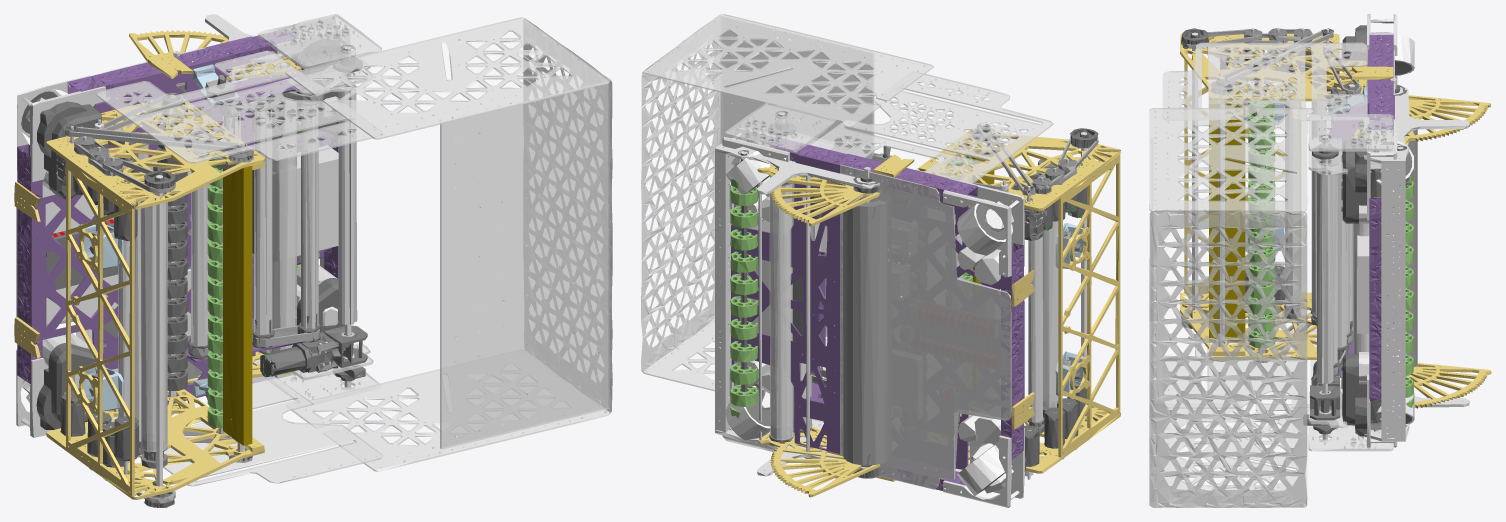
The picture shows the model from 3 angles, left to right: view 1: azimuth 30°, elevation 25°; view 2: azimuth 150°, elevation 25°; view 3: azimuth 270°, elevation 25°; orthographic projection. The views are drawn at different scales.
Parts seen in each view (by area): view 1: main_mesh, c3_mesh, c1_mesh, c0_mesh; view 2: main_mesh, c3_mesh, c0_mesh, c1_mesh, c2_mesh; view 3: main_mesh, c3_mesh, c0_mesh, c1_mesh, c2_mesh.
Boxes of the visible parts, bbox=[...] form: main_mesh: bbox=[14, 14, 383, 507]; c3_mesh: bbox=[285, 17, 612, 471]; c1_mesh: bbox=[129, 30, 301, 383]; c0_mesh: bbox=[173, 14, 344, 379]; main_mesh: bbox=[722, 72, 1120, 507]; c3_mesh: bbox=[641, 14, 933, 391]; c0_mesh: bbox=[715, 138, 880, 476]; c1_mesh: bbox=[757, 158, 880, 497]; c2_mesh: bbox=[842, 198, 887, 465]; main_mesh: bbox=[1162, 14, 1414, 451]; c3_mesh: bbox=[1149, 108, 1313, 507]; c0_mesh: bbox=[1359, 78, 1469, 441]; c1_mesh: bbox=[1352, 84, 1491, 408]; c2_mesh: bbox=[1407, 115, 1417, 367].
Size of the model in its own units: 0.9922 by 0.6985 by 0.7155.
